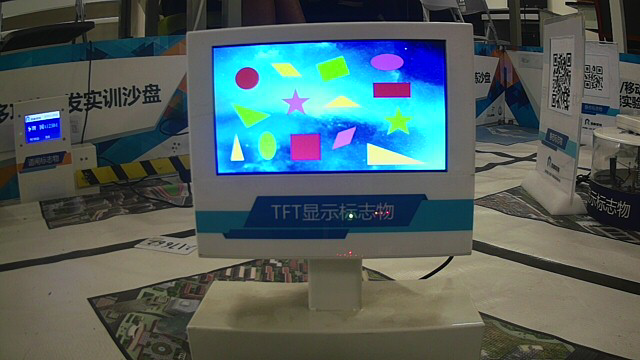graph: (209, 38, 454, 176)
